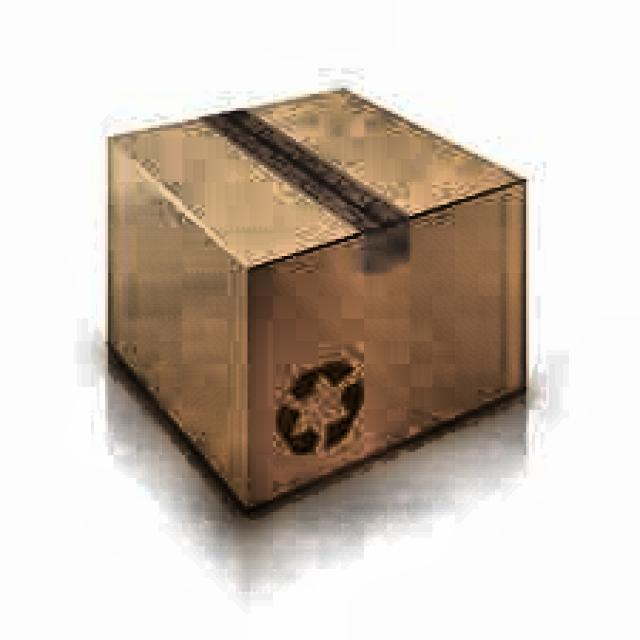cardboard: (102, 82, 529, 512)
